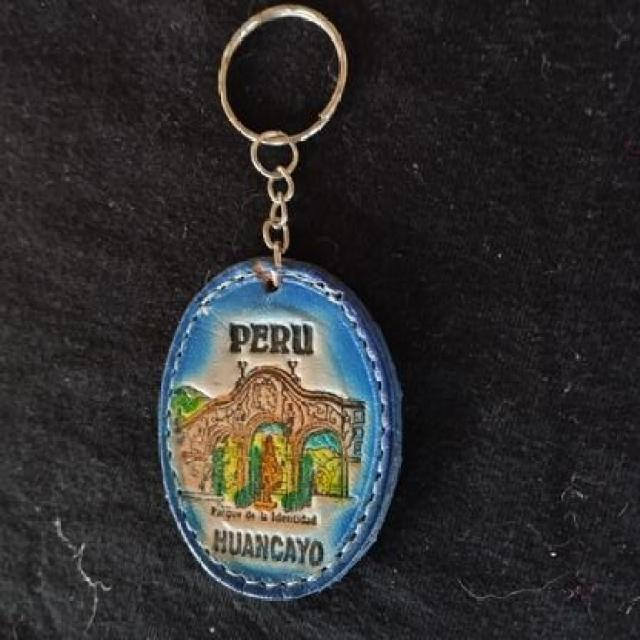Llavero: (156, 256, 404, 602)
